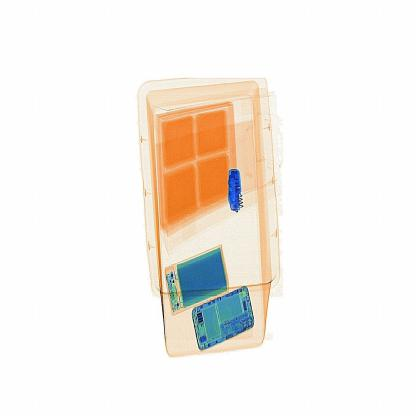scissors: (226, 158, 256, 216)
